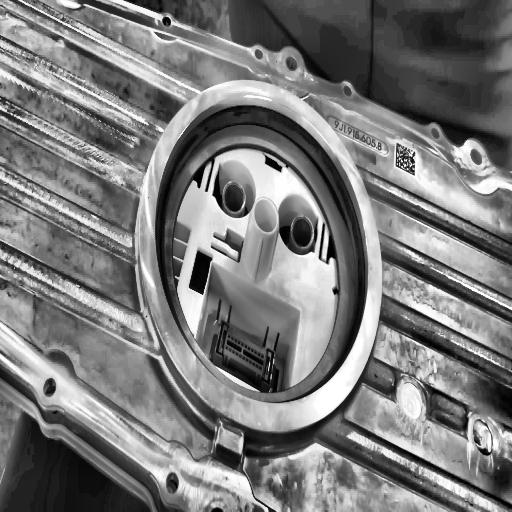bms_unit: (0, 0, 512, 512)
connector: (139, 80, 382, 430)
